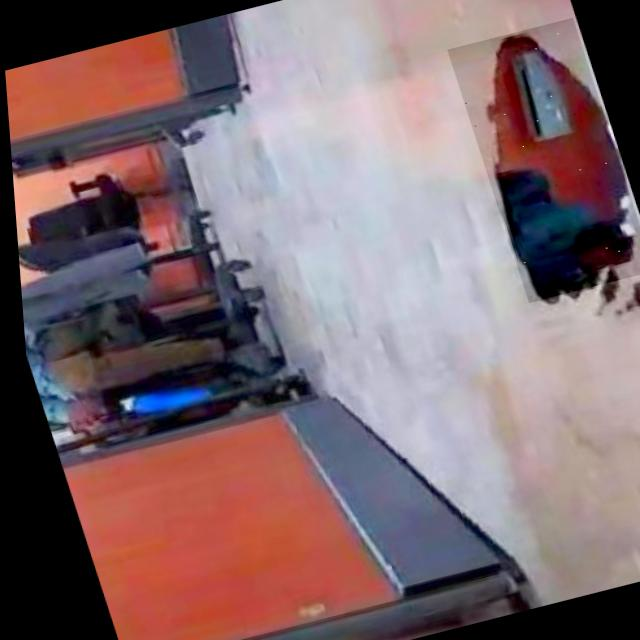spillage: (490, 30, 636, 300)
